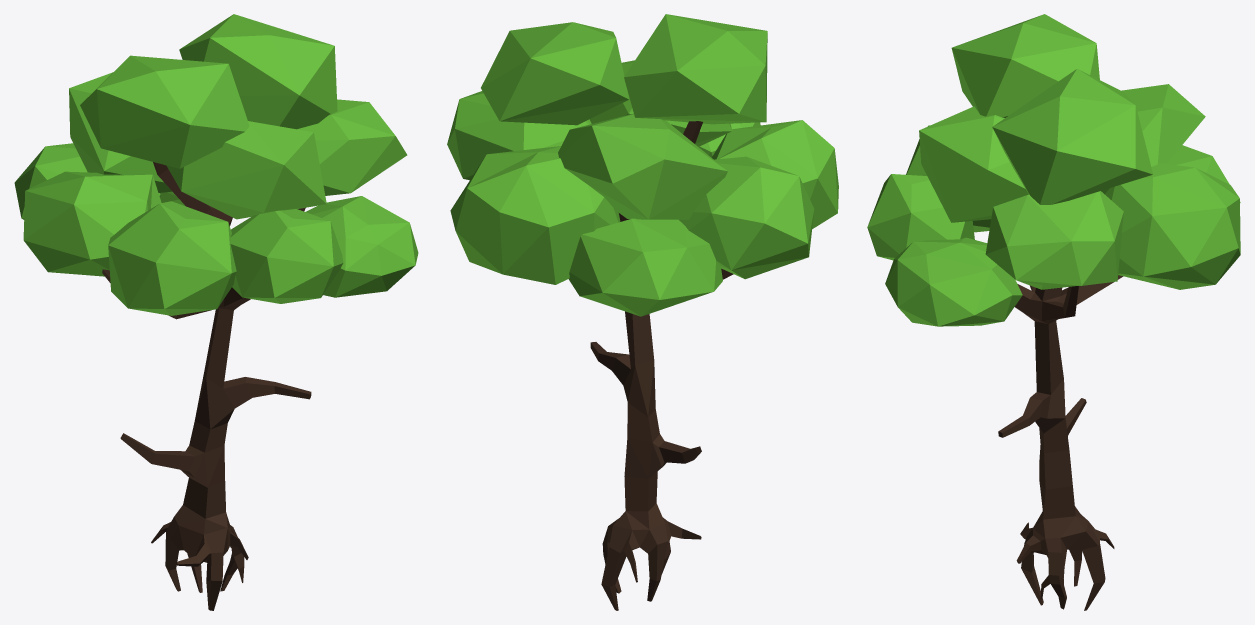
Rendered from Tree_02.fbx.
3 renders of one model, left to right at view 1: azimuth 30°, elevation 25°; view 2: azimuth 150°, elevation 25°; view 3: azimuth 270°, elevation 25°, orthographic. The views are drawn at different scales.
Visible parts, largest first — view 1: Tree_02; view 2: Tree_02; view 3: Tree_02.
Boxes of the visible parts, box(x1,y1,x2,y2) form: Tree_02: box(14, 14, 418, 610); Tree_02: box(447, 14, 838, 610); Tree_02: box(867, 14, 1240, 610).
Size of the model in its own units: 11.85 by 18.03 by 11.08.
